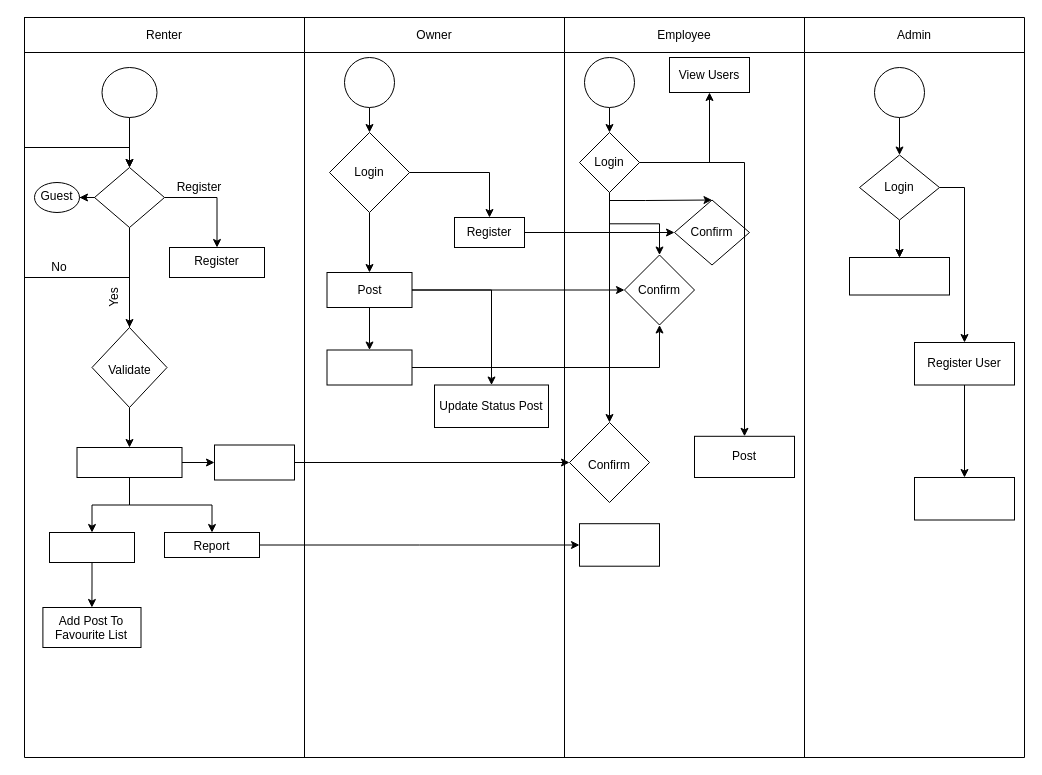
The diagram is 1042 pixels wide and 775 high, and some of its shapes have lost their labels. Here are the shapes that lost their labels. From the top down, the box of each, then its label:
(94, 166, 164, 228): Login?
(848, 256, 950, 295): View User
(326, 349, 412, 385): Edit Post
(76, 446, 182, 478): View Post
(214, 444, 294, 480): Comment
(914, 476, 1014, 520): Permission
(48, 532, 134, 562): Like Post
(578, 523, 660, 566): Notification to Employee
